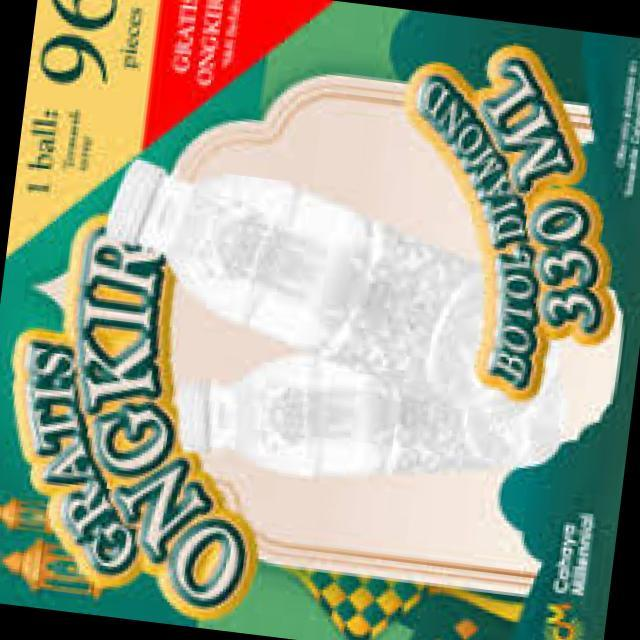good: (99, 151, 538, 380), (145, 325, 498, 517)
